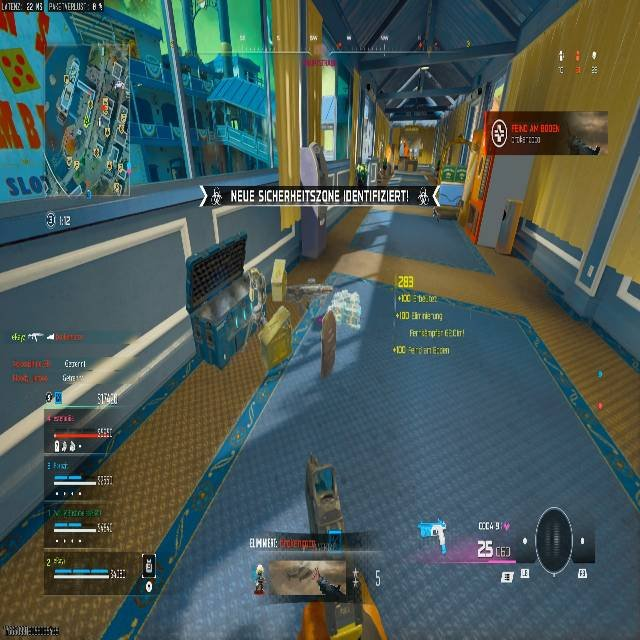player: (316, 576, 346, 601), (254, 565, 265, 594), (417, 187, 428, 206), (431, 206, 439, 223)
